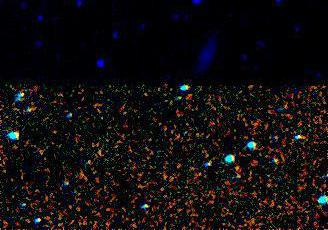star: (221, 154, 251, 184)
